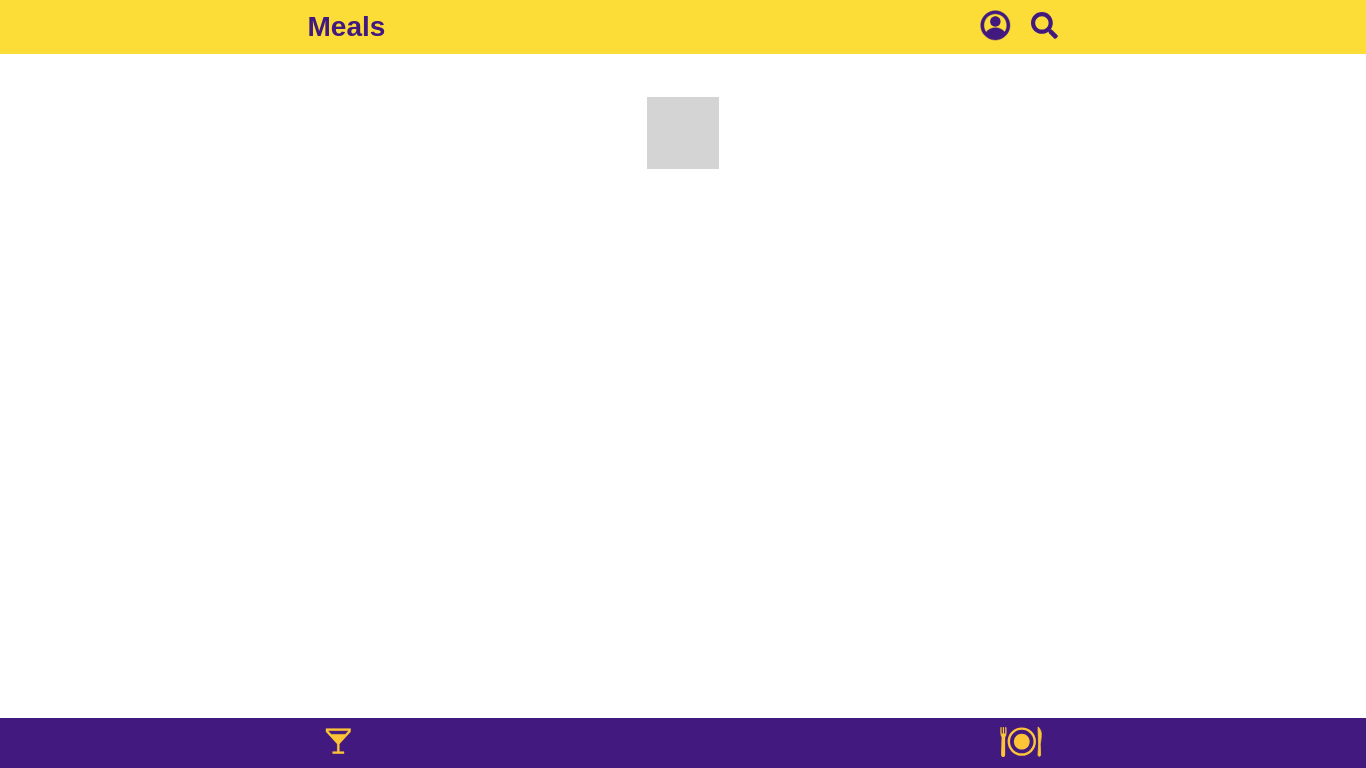
Testando o componente SearchBar › Verifica se o estado filter quando o btn quando clicado  recebe o valor correto
Click the button with test id "search-top-btn" at (1045, 27), box [1031,12,1058,42]
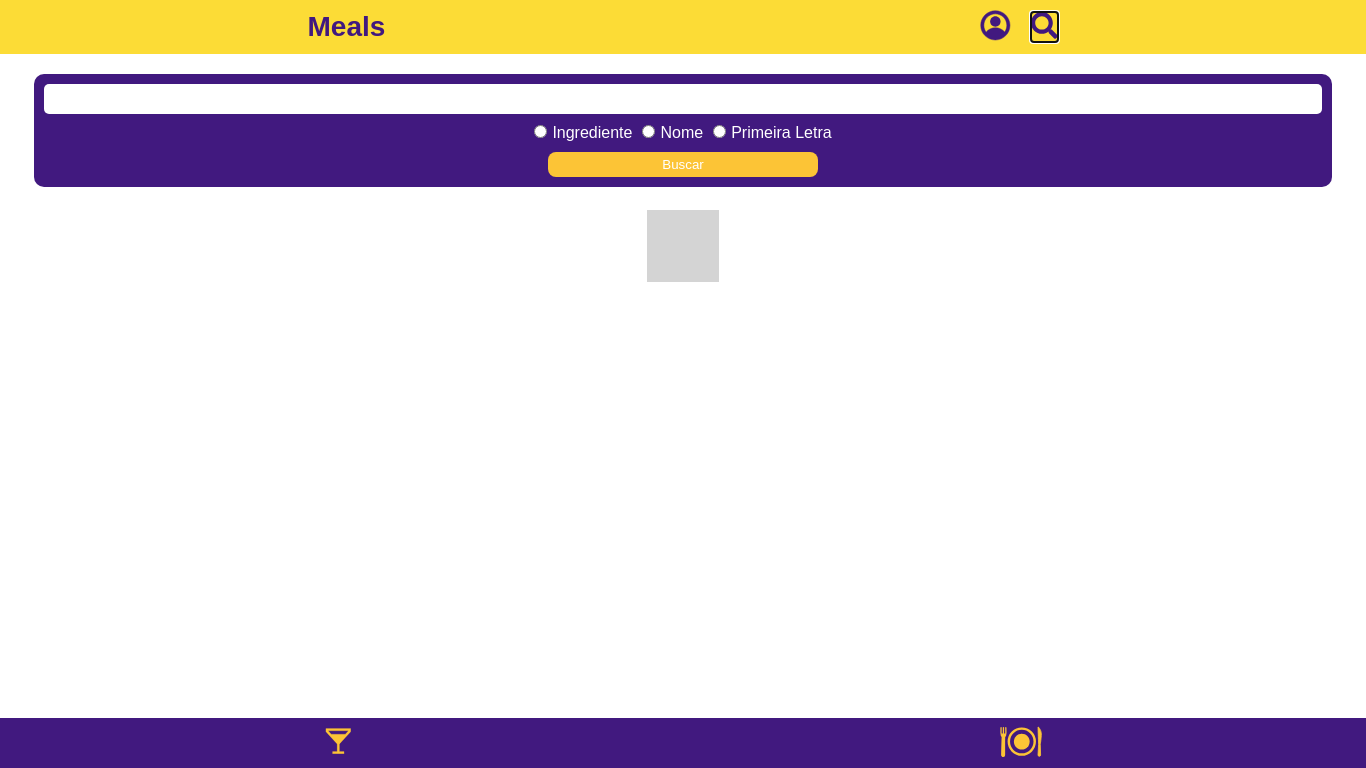
Click the radio button with test id "ingredient-search-radio" at (541, 132), box [534,125,547,138]
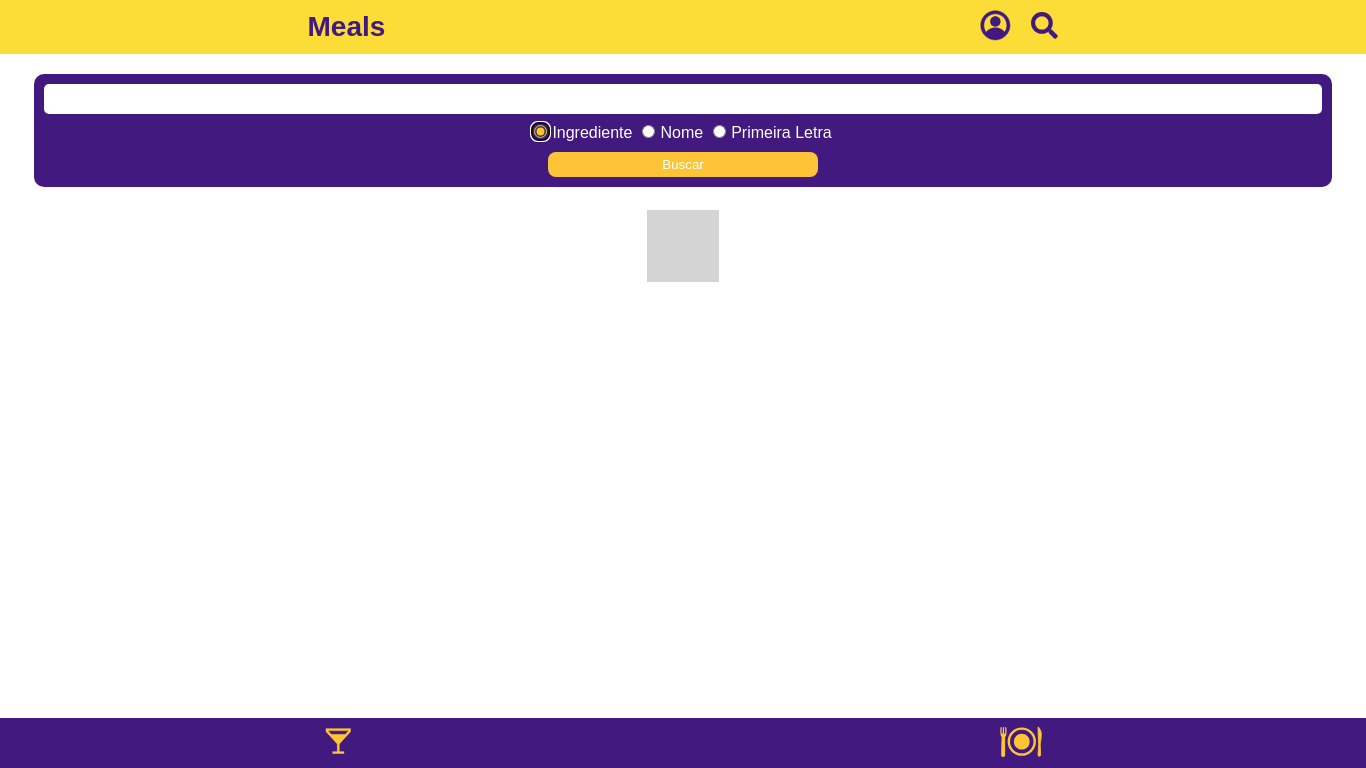
Expected: the radio button with test id "ingredient-search-radio" holds "filter.php?i=", [534,125,547,138]
Click the radio button with test id "name-search-radio" at (649, 132), box [642,125,655,138]
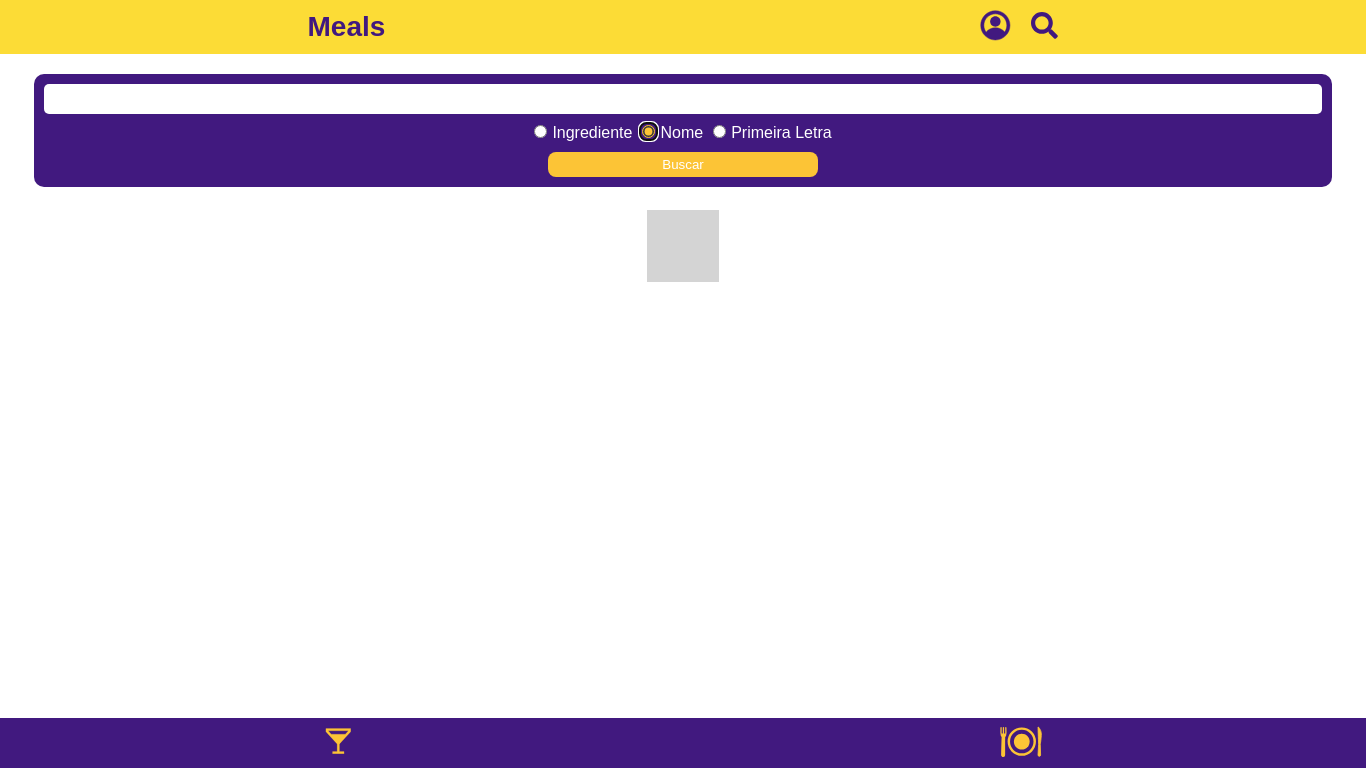
Expected: the radio button with test id "name-search-radio" holds "search.php?s=", [642,125,655,138]
Click the radio button with test id "first-letter-search-radio" at (720, 132), box [713,125,726,138]
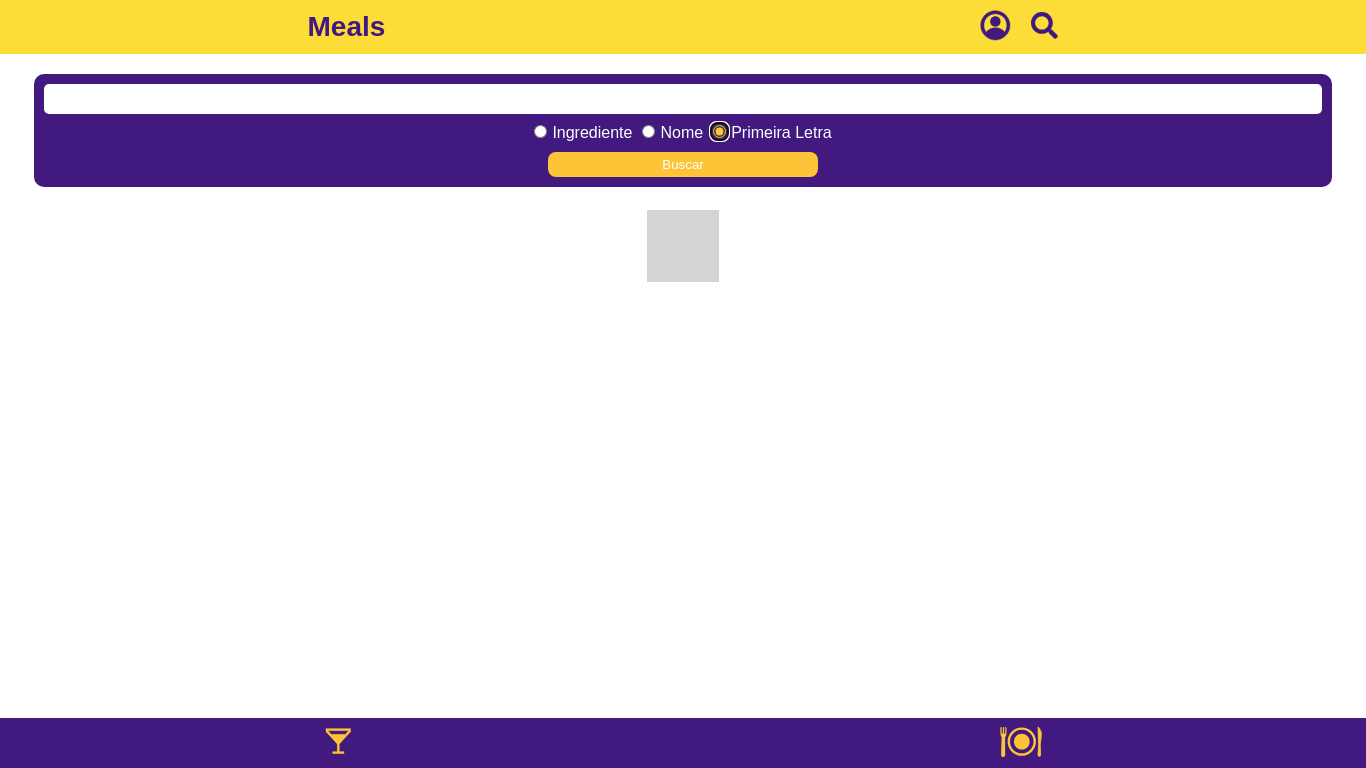
Expected: the radio button with test id "first-letter-search-radio" holds "search.php?f=", [713,125,726,138]
